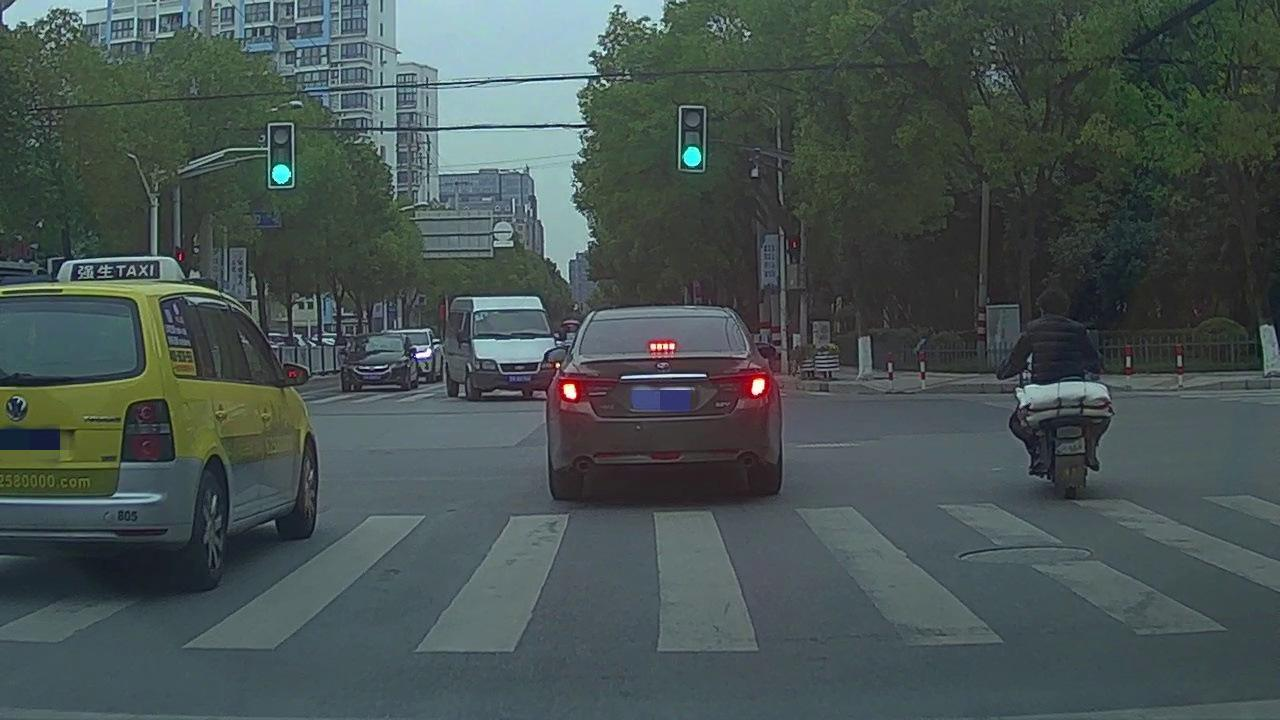traffic_light: (266, 125, 295, 186), (682, 108, 703, 168)
